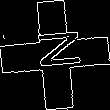N_W: (28, 33, 82, 77)
